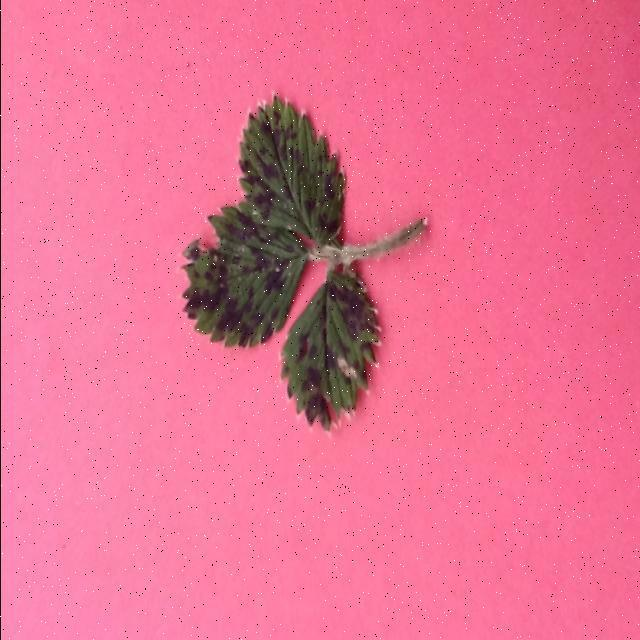foliage: (176, 89, 436, 435)
